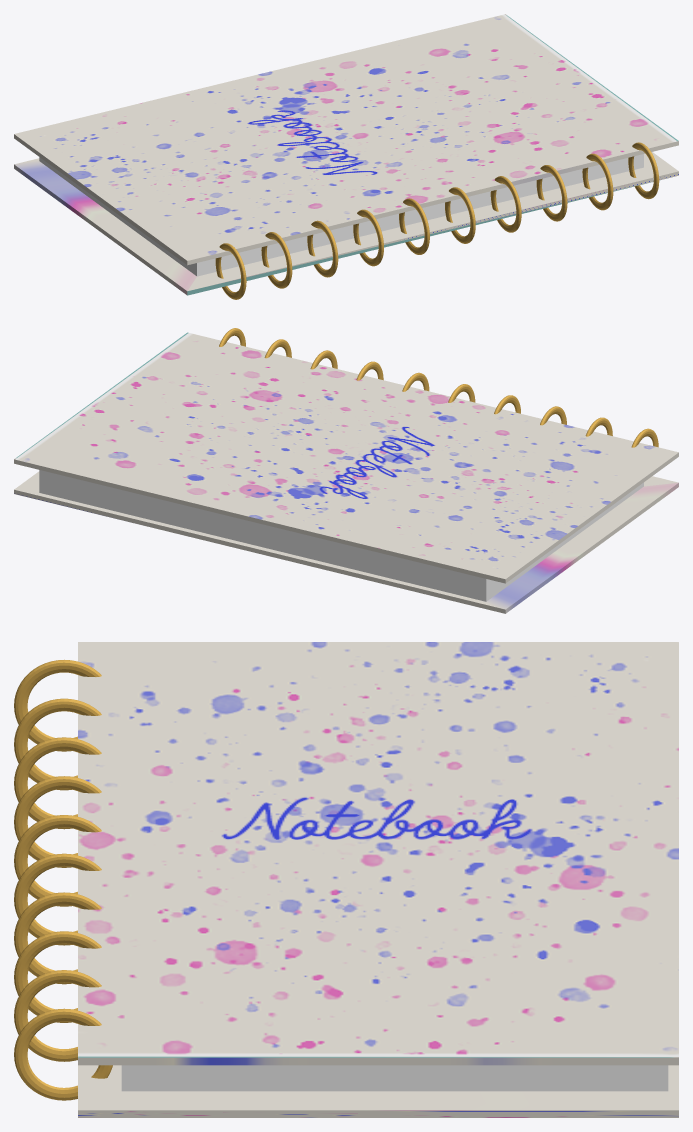
File: notebook2.fbx
3 renders of one model, top to bottom at view 1: azimuth 30°, elevation 25°; view 2: azimuth 150°, elevation 25°; view 3: azimuth 270°, elevation 25°, orthographic. The views are drawn at different scales.
Visible parts, largest first — view 1: Cube; view 2: Cube; view 3: Cube.
Boxes of the visible parts, x1,y1,x2,y2 form: Cube: (14, 14, 678, 299); Cube: (14, 328, 678, 613); Cube: (14, 642, 678, 1117).
Bounding box in the file's own units: 543 × 55.47 × 367.
